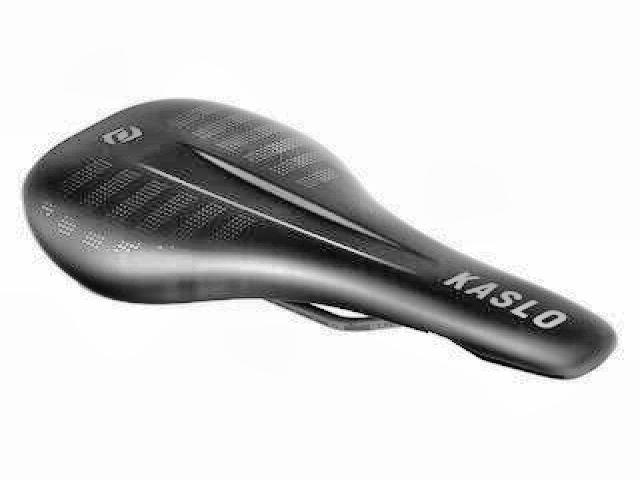saddle: (25, 96, 621, 382)
